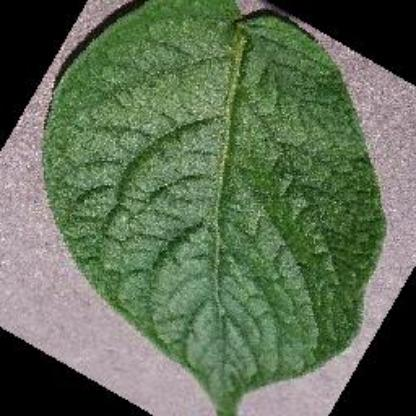Healthy-plant: (41, 0, 392, 412)
